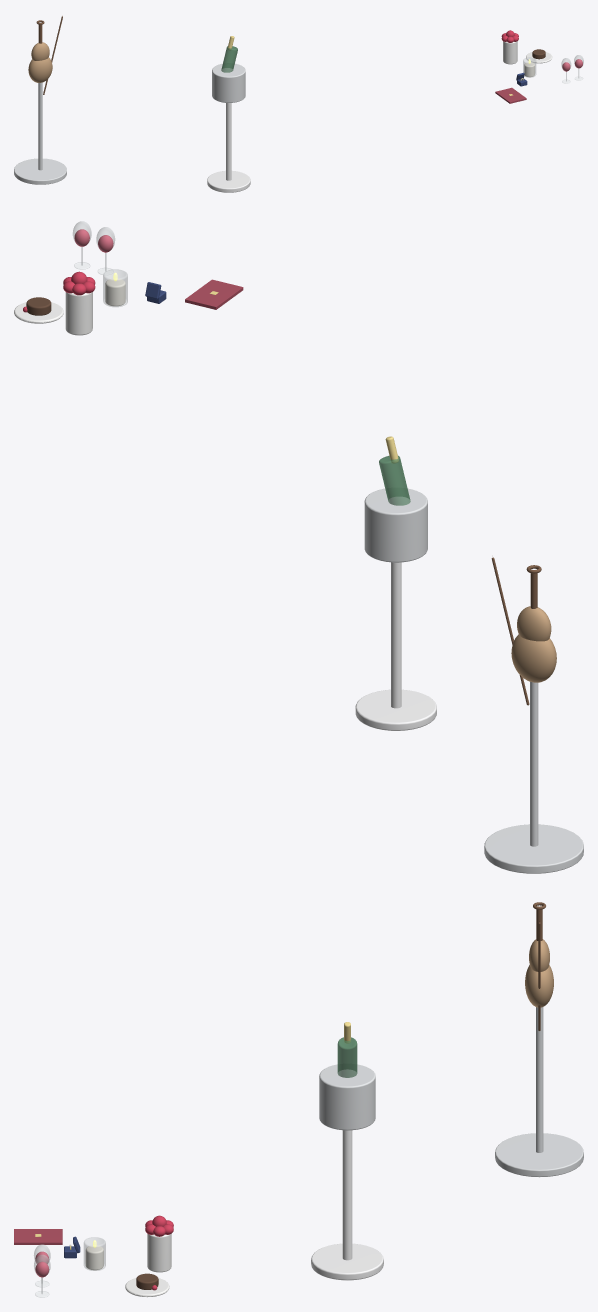
The model's file is dating.glb.
3 views of the same model, one above another, from view 1: azimuth 30°, elevation 25°; view 2: azimuth 150°, elevation 25°; view 3: azimuth 270°, elevation 25° (orthographic). The views are drawn at different scales.
Visible parts, largest first — view 1: Champagne_Bottle, Violin, Bouquet_of_Roses, Wine_Glasses, Wine_List, Chocolate_Fondant, Candle; view 2: Champagne_Bottle, Violin, Bouquet_of_Roses, Wine_Glasses, Wine_List, Chocolate_Fondant, Candle; view 3: Champagne_Bottle, Violin, Bouquet_of_Roses, Chocolate_Fondant, Wine_List, Candle, Wine_Glasses.
Part boxes in pixels (box(x1,y1,x2,y2)): Champagne_Bottle: box(207, 36, 250, 192); Violin: box(14, 16, 66, 184); Bouquet_of_Roses: box(501, 30, 518, 64); Wine_Glasses: box(561, 55, 583, 83); Wine_List: box(495, 87, 526, 103); Chocolate_Fondant: box(526, 49, 552, 63); Candle: box(523, 57, 536, 77); Champagne_Bottle: box(355, 436, 436, 730); Violin: box(484, 557, 583, 873); Bouquet_of_Roses: box(63, 271, 95, 335); Wine_Glasses: box(72, 221, 115, 274); Wine_List: box(185, 279, 243, 309); Chocolate_Fondant: box(14, 297, 63, 323); Candle: box(103, 269, 127, 307); Champagne_Bottle: box(311, 1022, 383, 1280); Violin: box(495, 902, 583, 1177); Bouquet_of_Roses: box(145, 1215, 173, 1272); Chocolate_Fondant: box(125, 1273, 169, 1297); Wine_List: box(14, 1229, 62, 1244); Candle: box(83, 1237, 105, 1270); Wine_Glasses: box(34, 1244, 50, 1297).
Size of what is drawn, in the model's own units: 3.98 by 1.41 by 2.82.
